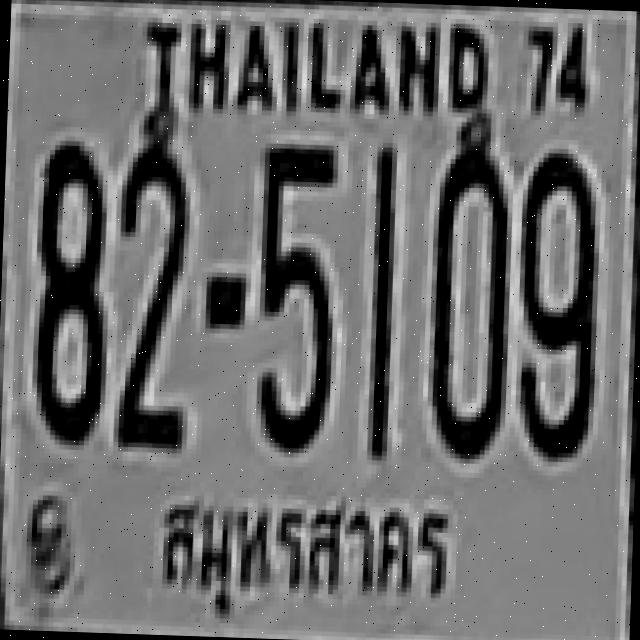0: (517, 147, 597, 345)
SamutPrakan: (148, 484, 470, 626)
